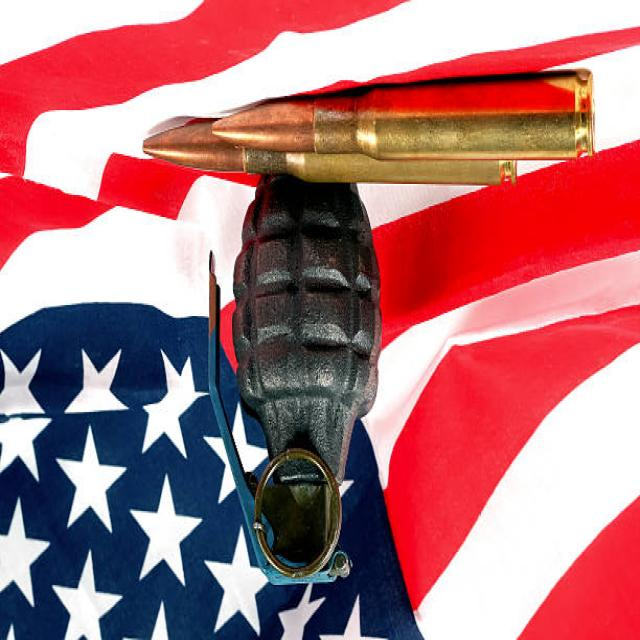grenade: (205, 175, 387, 592)
